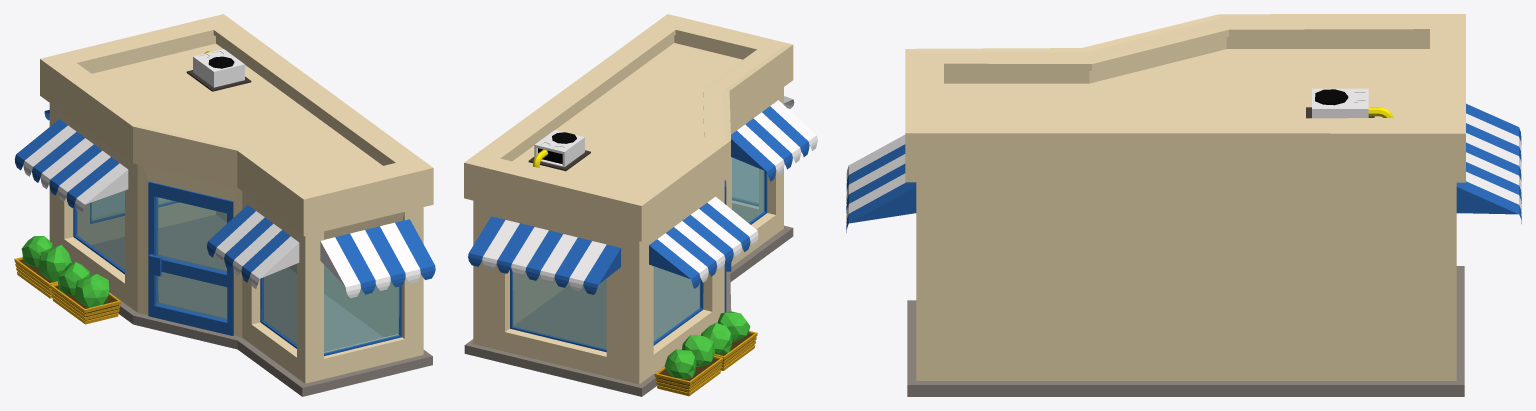
Rendered from low_poly_shop.glb.
3 views of the same model, side by side, from view 1: azimuth 30°, elevation 25°; view 2: azimuth 150°, elevation 25°; view 3: azimuth 270°, elevation 25° (orthographic). The views are drawn at different scales.
Visible parts, largest first — view 1: casa base, tetto, base.001, porta, tenda frontale facciata dx, tenda frontale, finestra facciata dx, tenda frontale piccola, finestra frontale sx, finestra dx, vaso rettangolare sx 3.002, cassetta (+6 smaller); view 2: casa base, tetto, base.001, tenda frontale.001, finestra sx, tenda frontale, tenda frontale piccola, finestra frontale sx, finestra dx, vaso rettangolare sx 3, cassetta, finestra facciata dx (+5 smaller); view 3: casa base, tetto, base.001, tenda frontale.001, tenda frontale facciata dx, cassetta.
Part boxes in pixels (<box>): casa base: <box>40,14,433,383</box>; tetto: <box>92,43,382,183</box>; base.001: <box>91,215,432,396</box>; porta: <box>148,181,233,335</box>; tenda frontale facciata dx: <box>320,219,435,298</box>; tenda frontale: <box>15,119,128,214</box>; finestra facciata dx: <box>324,265,401,356</box>; tenda frontale piccola: <box>207,205,299,288</box>; finestra frontale sx: <box>73,190,124,274</box>; finestra dx: <box>260,264,296,348</box>; vaso rettangolare sx 3.002: <box>50,283,121,324</box>; cassetta: <box>193,49,244,87</box>; casa base: <box>464,14,793,384</box>; tetto: <box>512,43,742,190</box>; base.001: <box>464,225,793,396</box>; tenda frontale.001: <box>468,216,621,294</box>; finestra sx: <box>510,268,606,352</box>; tenda frontale: <box>649,196,758,288</box>; tenda frontale piccola: <box>731,100,817,181</box>; finestra frontale sx: <box>653,266,703,345</box>; finestra dx: <box>732,157,767,224</box>; vaso rettangolare sx 3: <box>654,355,723,396</box>; cassetta: <box>534,130,584,167</box>; finestra facciata dx: <box>732,158,758,206</box>; casa base: <box>905,14,1465,380</box>; tetto: <box>944,49,1429,118</box>; base.001: <box>907,266,1464,396</box>; tenda frontale.001: <box>1456,103,1521,223</box>; tenda frontale facciata dx: <box>846,135,916,232</box>; cassetta: <box>1312,88,1368,118</box>.
Size of the model in its own units: 3.89 by 3.33 by 7.67.
